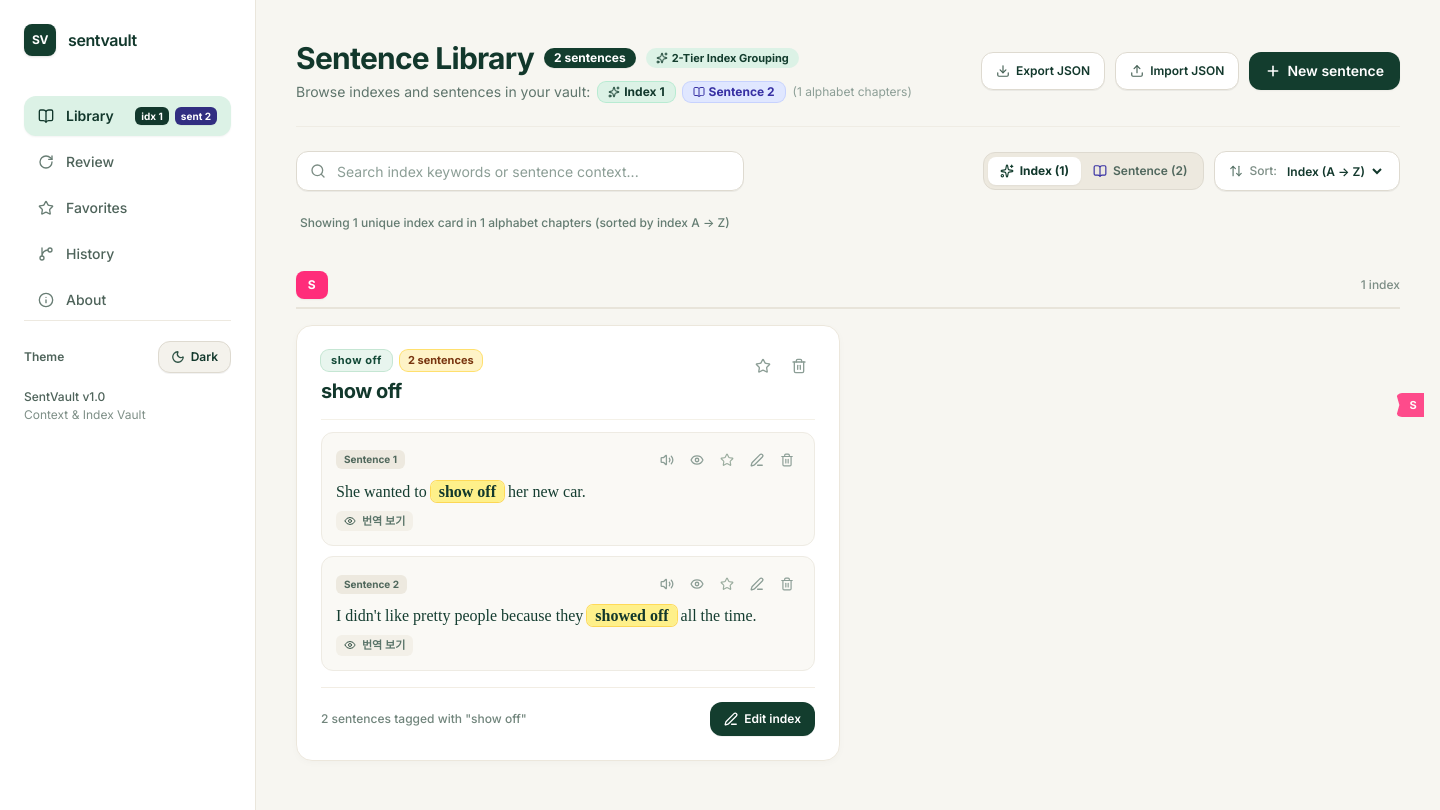
Test: Sentence Note - Multi-Index Management › guarantees unique IDs for stored sentences and clicking a specific sentence opens its own detail
Check: the text "She wanted to show off her new car." is shown, box [336,480,586,502]
Check: the text "I didn't like pretty people" is shown, box [336,607,587,624]
Click the text "I didn't like pretty people": (568, 616) [336,603,800,629]
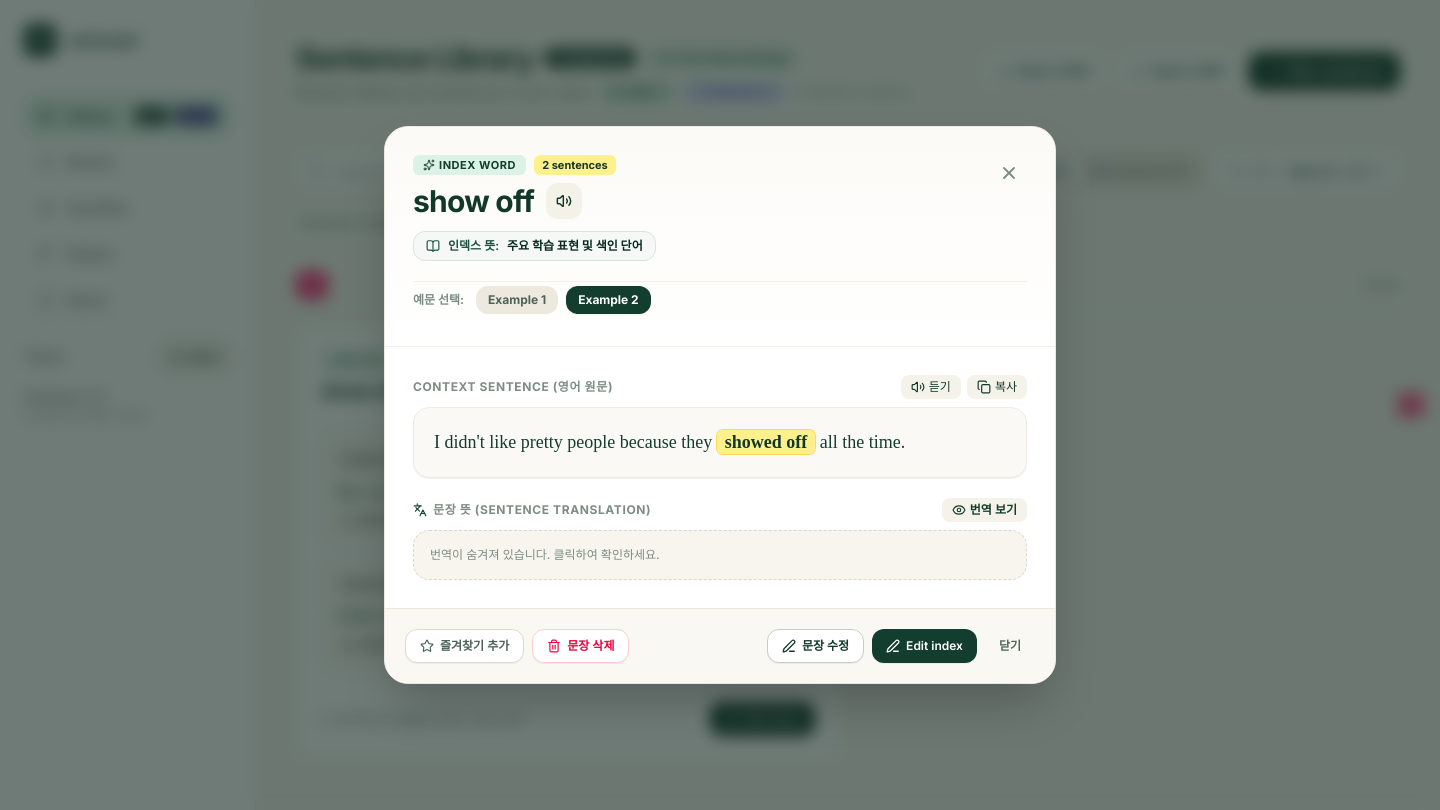
Check: the dialog is shown
Check: the text "I didn't like pretty people" is shown, box [434,432,717,452]
